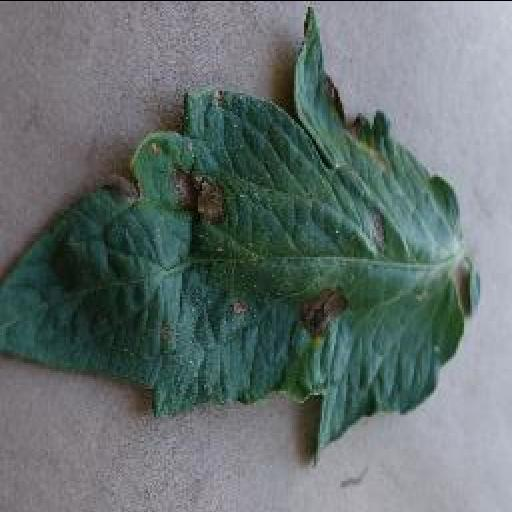Early Blight: (2, 4, 484, 465)
